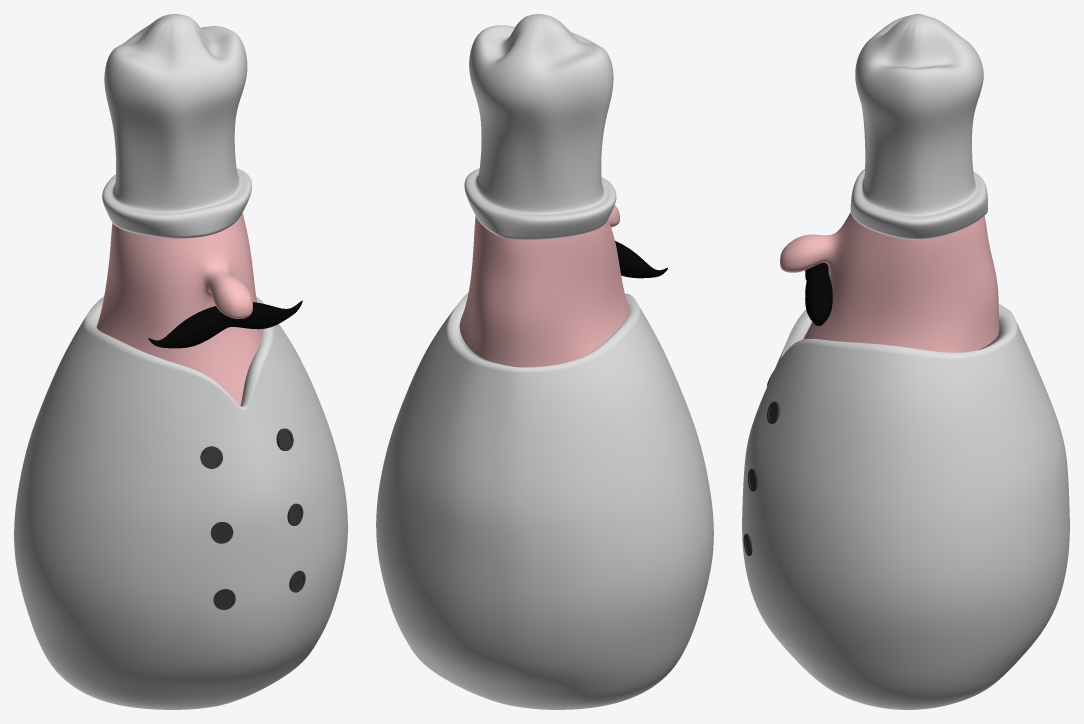
File: Cook.fbx
The picture shows the model from 3 angles, left to right: view 1: azimuth 30°, elevation 25°; view 2: azimuth 150°, elevation 25°; view 3: azimuth 270°, elevation 25°; orthographic projection.
Visible parts, largest first — view 1: Roundcube.001, Roundcube.002, Roundcube, Cube, Circle, Circle.001, Circle.002; view 2: Roundcube.001, Roundcube.002, Roundcube, Cube; view 3: Roundcube.001, Roundcube.002, Roundcube, Cube.
Boxes of the visible parts, x1,y1,x2,y2 form: Roundcube.001: (14, 296, 347, 709); Roundcube.002: (102, 14, 251, 238); Roundcube: (96, 213, 262, 405); Cube: (148, 300, 302, 348); Circle: (200, 428, 293, 468); Circle.001: (210, 503, 303, 543); Circle.002: (213, 570, 305, 609); Roundcube.001: (376, 292, 713, 709); Roundcube.002: (464, 14, 616, 239); Roundcube: (459, 205, 629, 367); Cube: (615, 241, 667, 278); Roundcube.001: (742, 304, 1069, 709); Roundcube.002: (850, 14, 987, 239); Roundcube: (780, 212, 999, 352); Cube: (805, 262, 832, 325).
Bounding box in the file's own units: 228 × 498 × 220.
